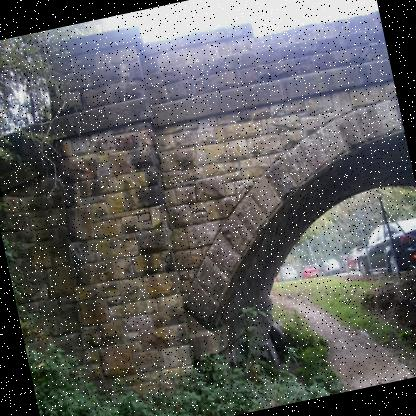Car: (351, 216, 415, 280), (341, 245, 369, 272), (318, 256, 342, 276), (279, 263, 298, 282), (298, 262, 319, 279), (338, 253, 356, 272), (273, 276, 279, 282)
